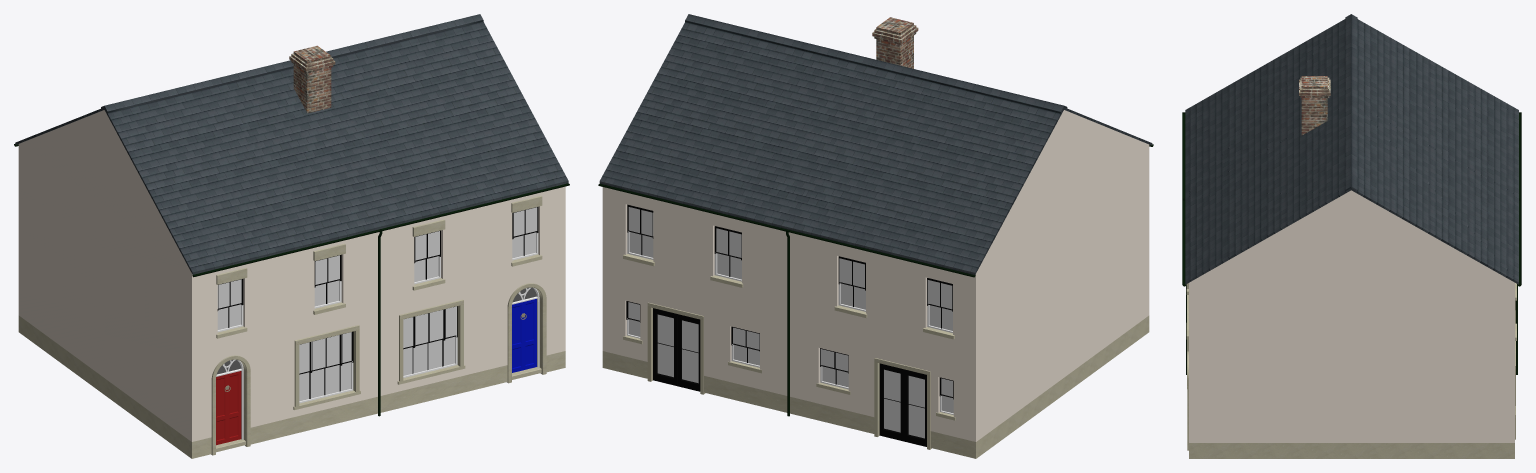
File: House2.fbx
3 renders of one model, left to right at view 1: azimuth 30°, elevation 25°; view 2: azimuth 150°, elevation 25°; view 3: azimuth 270°, elevation 25°, orthographic. The views are drawn at different scales.
Visible parts, largest first — view 1: House; view 2: House; view 3: House.
Boxes of the visible parts, x1,y1,x2,y2 form: House: (14,14,569,458); House: (598,14,1153,458); House: (1182,14,1521,458).
Size of the model in its own units: 7.37 by 5.85 by 6.12.
Materials: 15 (9 with a texture image).
